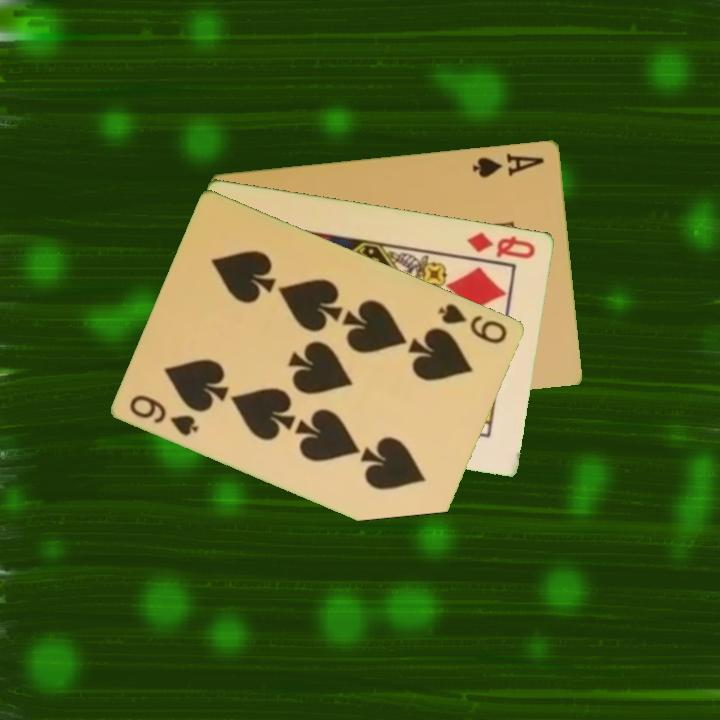9s: (126, 390, 202, 439), (435, 299, 511, 347)
As: (469, 149, 547, 180)
Qd: (463, 228, 539, 261)
